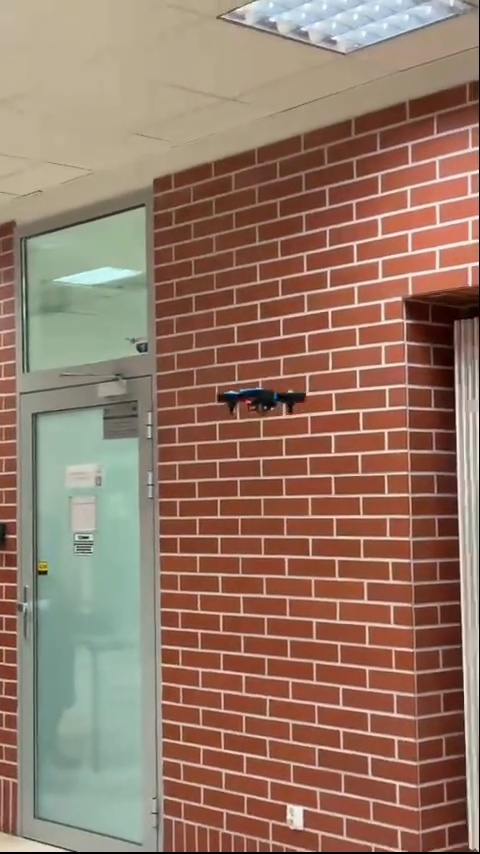drone: (219, 384, 310, 418)
